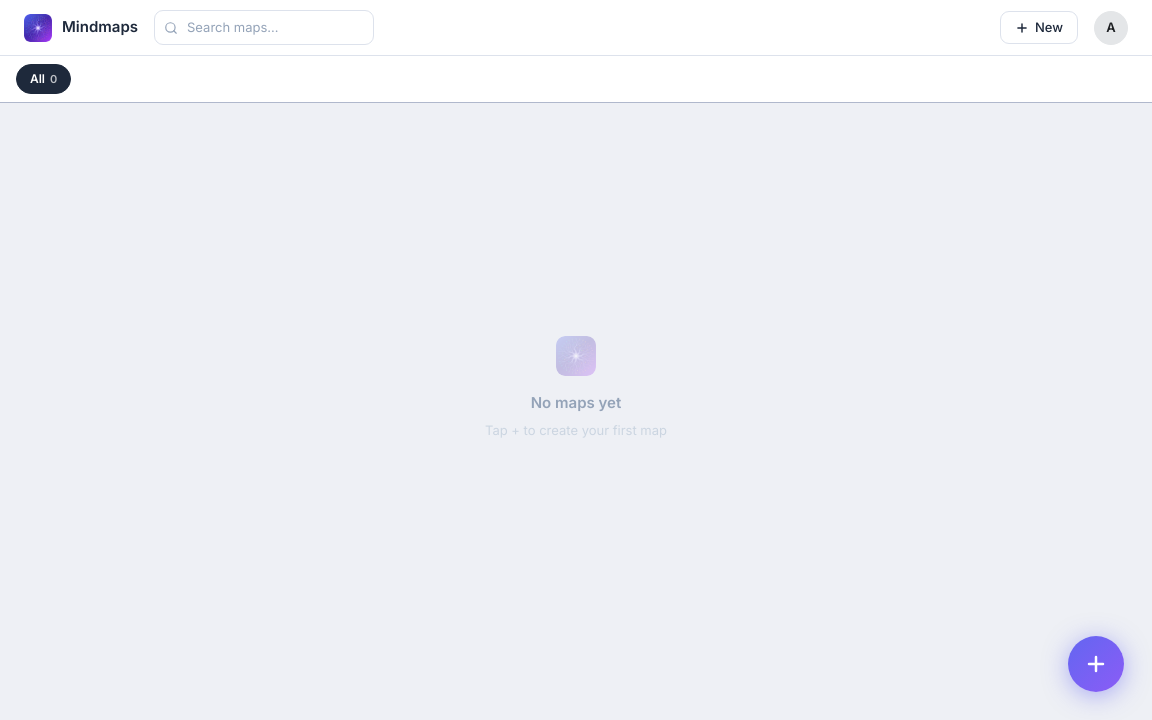
HomePage — create flows › opens the AI create modal via the floating button
Click the button titled "New Map": (1096, 664) left=1068, top=636, right=1124, bottom=692
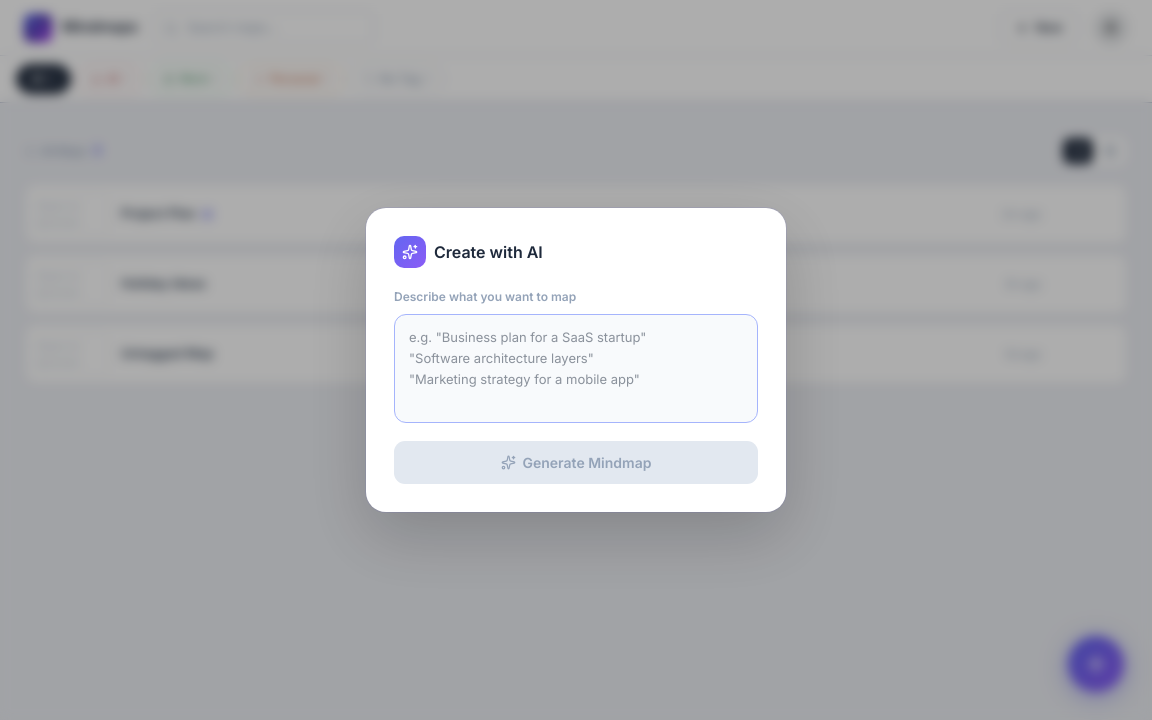
Check: the heading "Create with AI" is shown, box left=434, top=240, right=543, bottom=264
Check: the button "Generate Mindmap" is shown, box left=394, top=441, right=758, bottom=484
